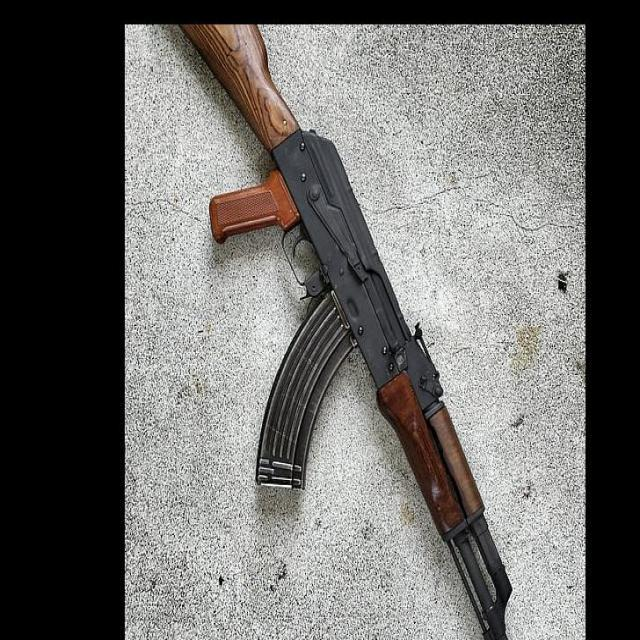weapon: (179, 23, 515, 640)
